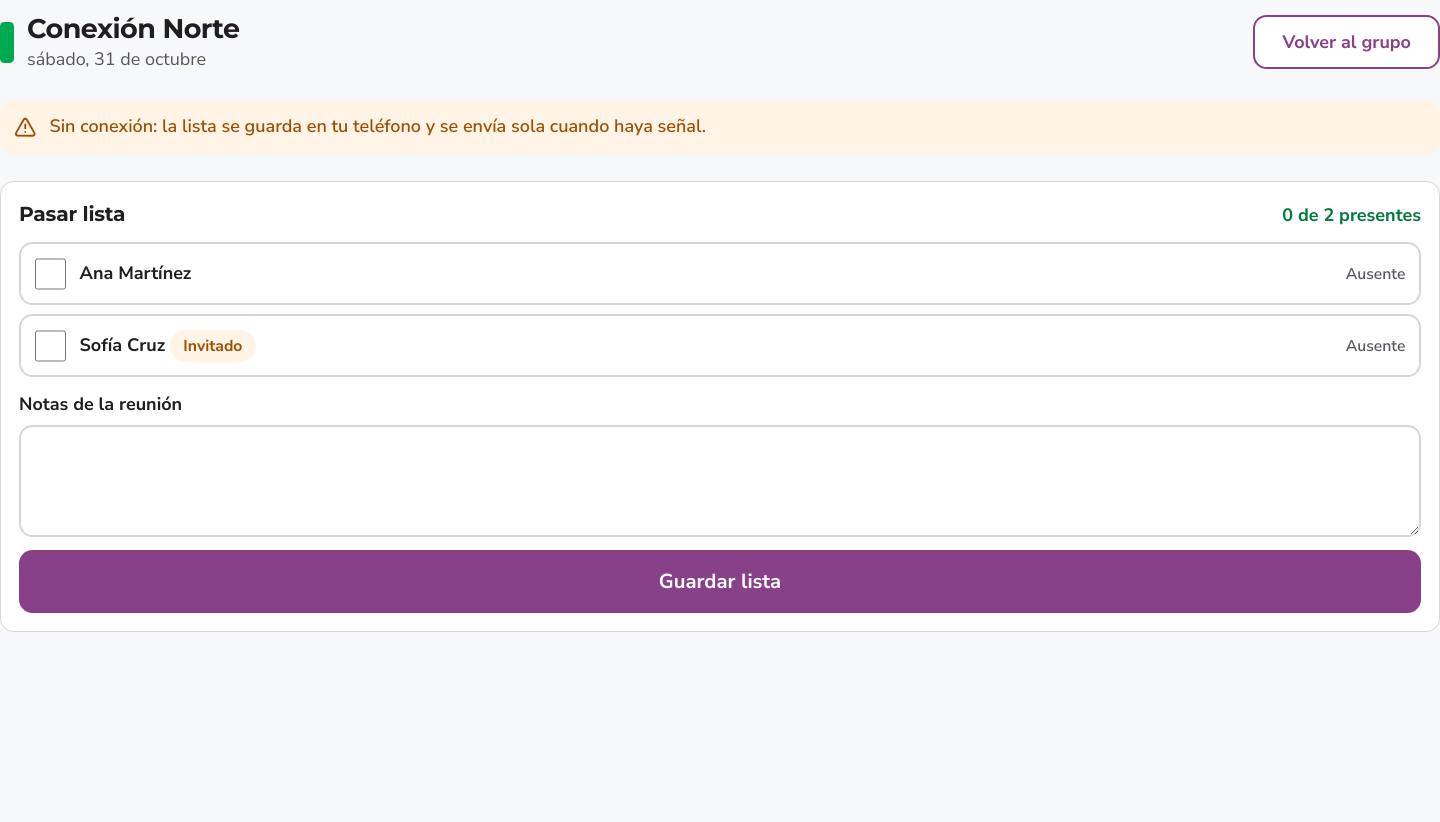
it: ListaSinConexionPage › arma la lista con el grupo guardado, sin repetir personas, y deja la captura en cola
Expected: the text "Sofía Cruz" is shown, [80,332,165,356]
Expected: the text "Ana Martínez" is shown once, [80,261,191,285]
Click the checkbox labelled "Ana Martínez Ausente". click: (50, 274)
box: [34,258,66,290]
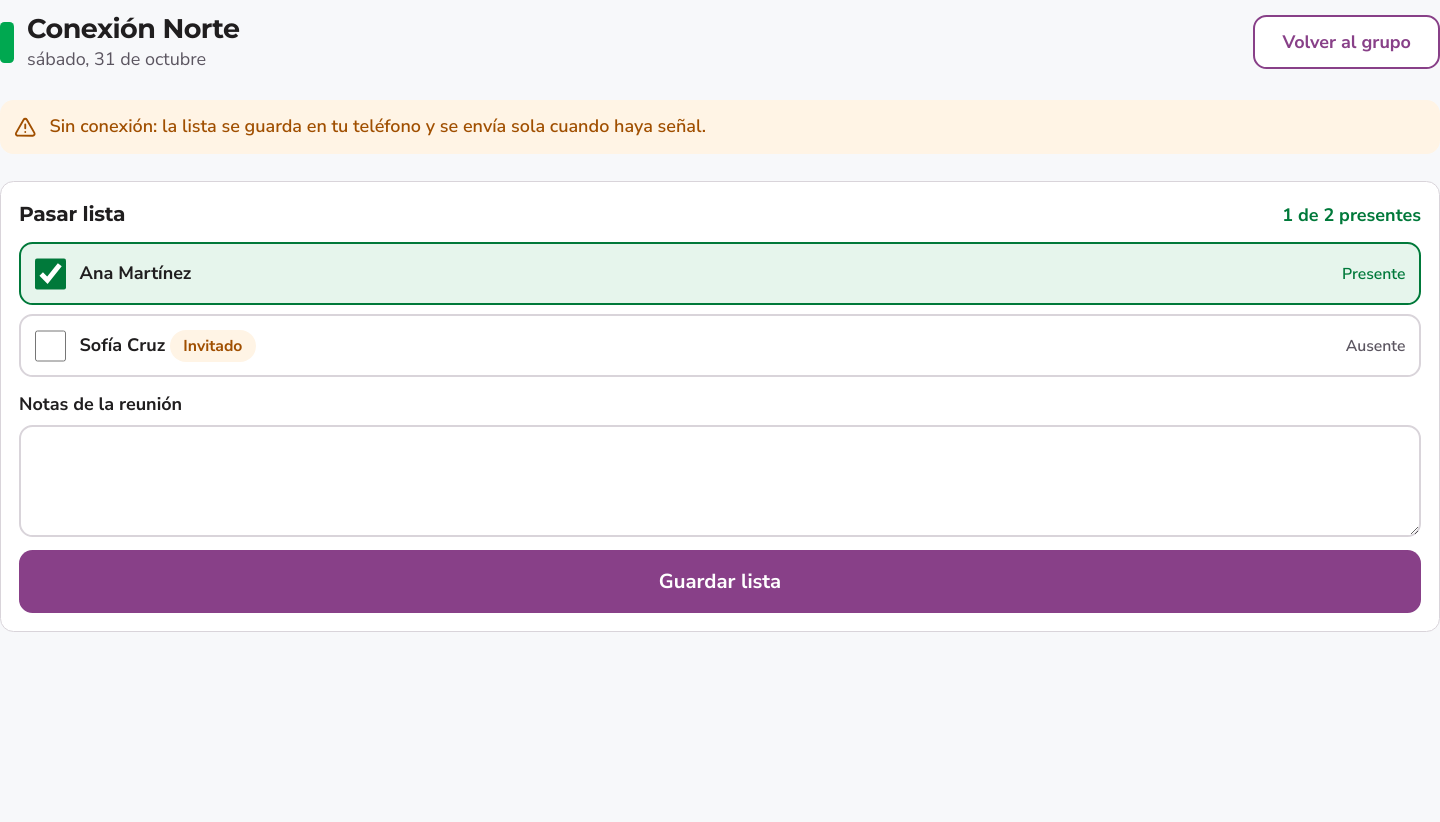
Click the button "Guardar lista". click: (720, 582)
box: [19,550,1421,613]
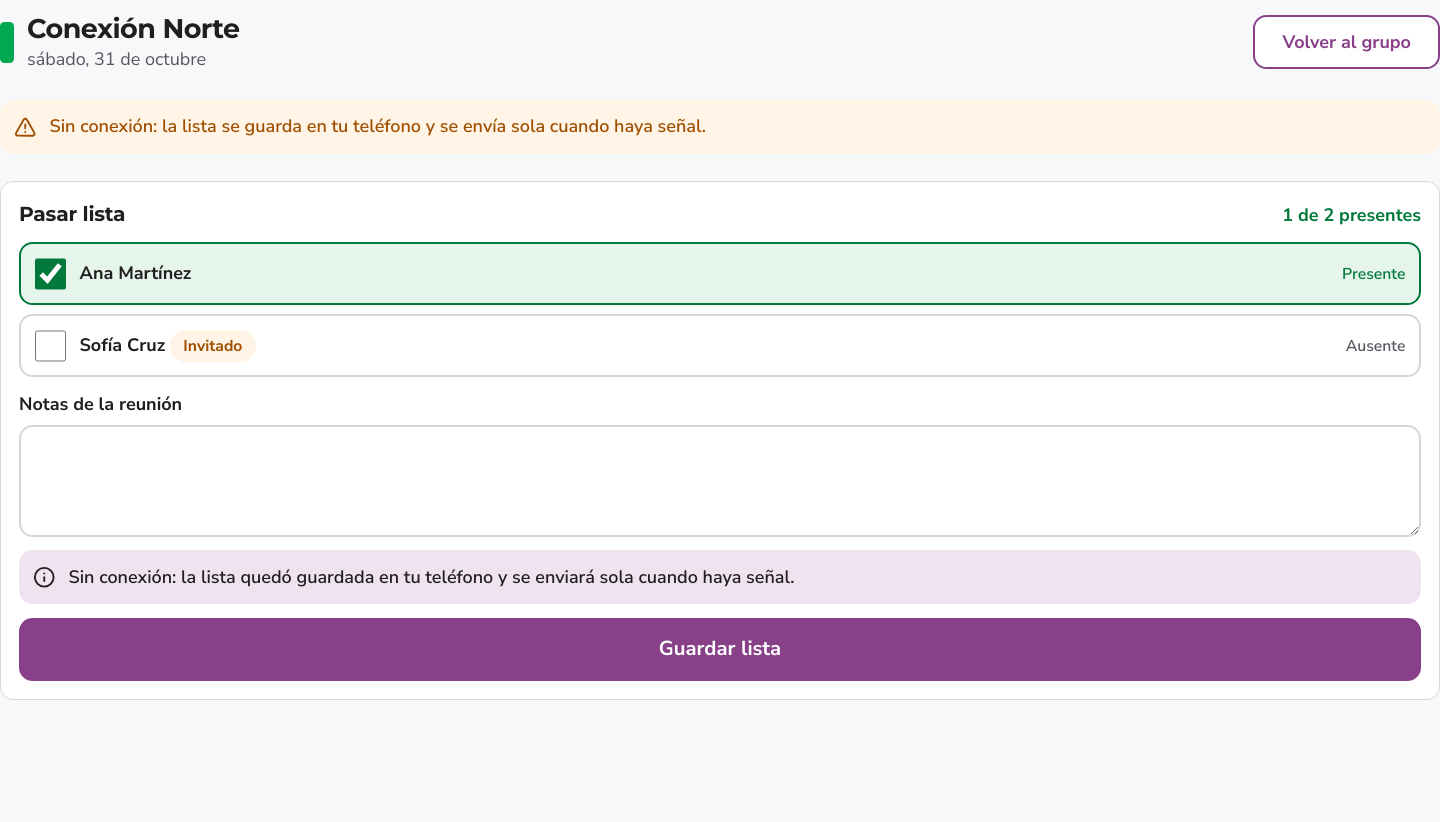
Expected: the text "quedó guardada en tu teléfono" is shown, [68,564,794,588]
